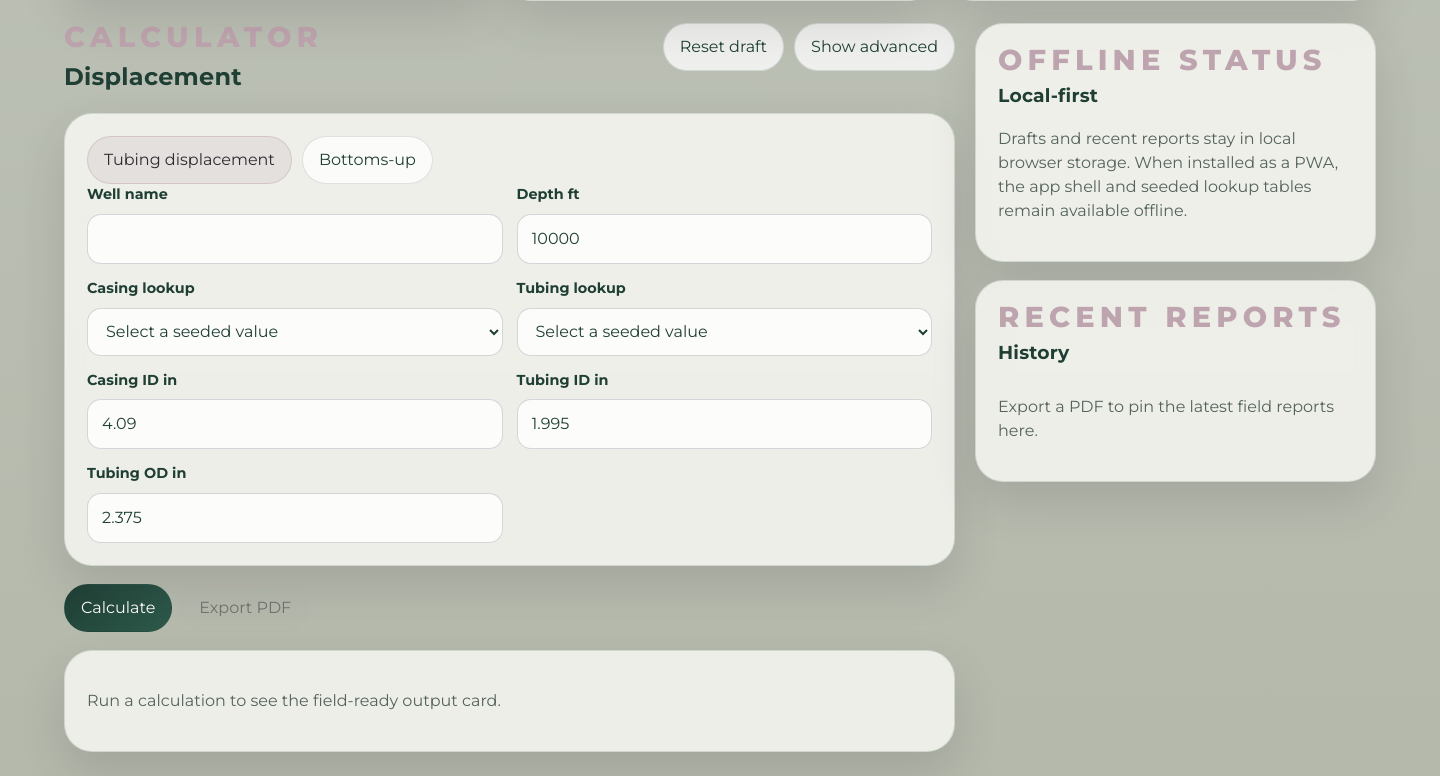
Test: app shell › shows the displacement workflow and calculates with defaults
The image size is (1440, 776).
(page scrolled)
What coordinates should you click on to do the following:
click the button "Calculate"
I would click on:
 (118, 608)
Its box is [64,584,172,632].
(page scrolled)
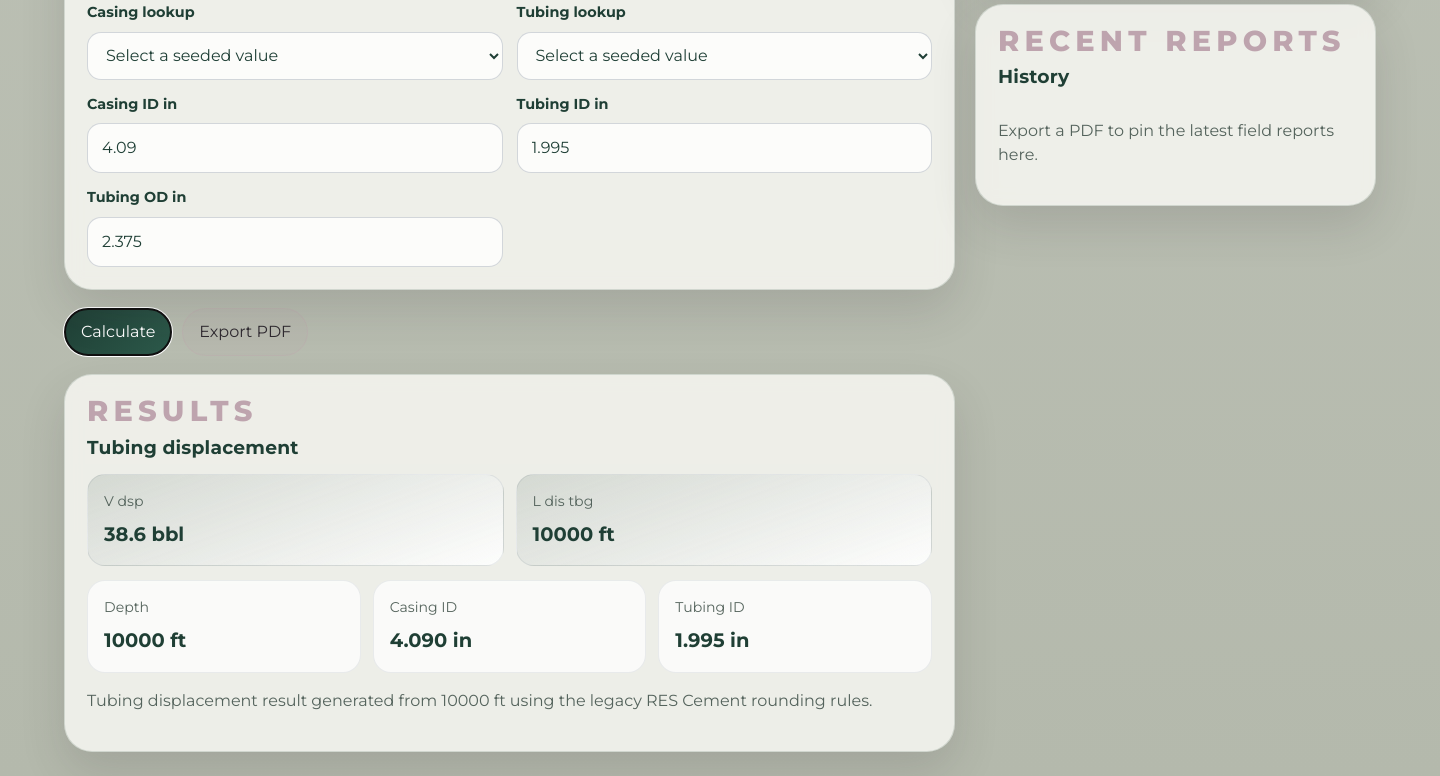
Now the heading "Tubing displacement" is shown, box [87,434,299,462]
Now the text "38.6 bbl" is shown, box [104,522,184,546]
